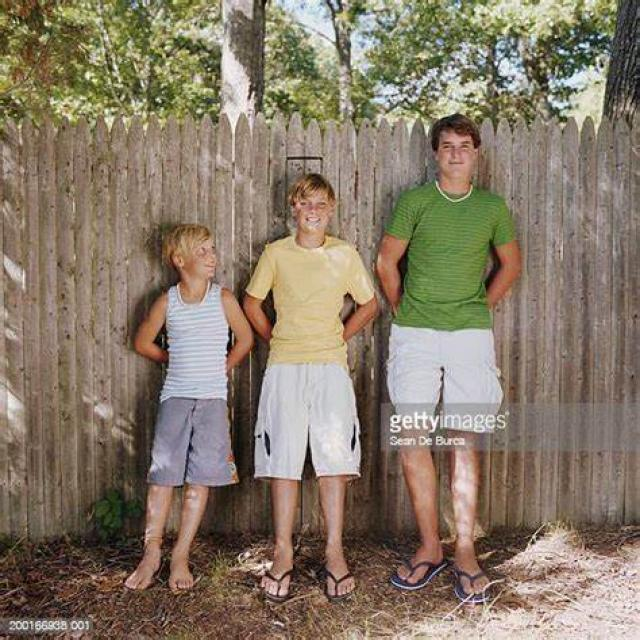No_Harness: (404, 197, 500, 319), (266, 244, 353, 352)
No_Helmet: (163, 224, 214, 259), (430, 113, 481, 145), (288, 170, 336, 204)
No_Shoe: (396, 538, 447, 592), (453, 548, 493, 602), (320, 551, 357, 605), (124, 548, 163, 591), (262, 552, 296, 598), (169, 550, 195, 592)
